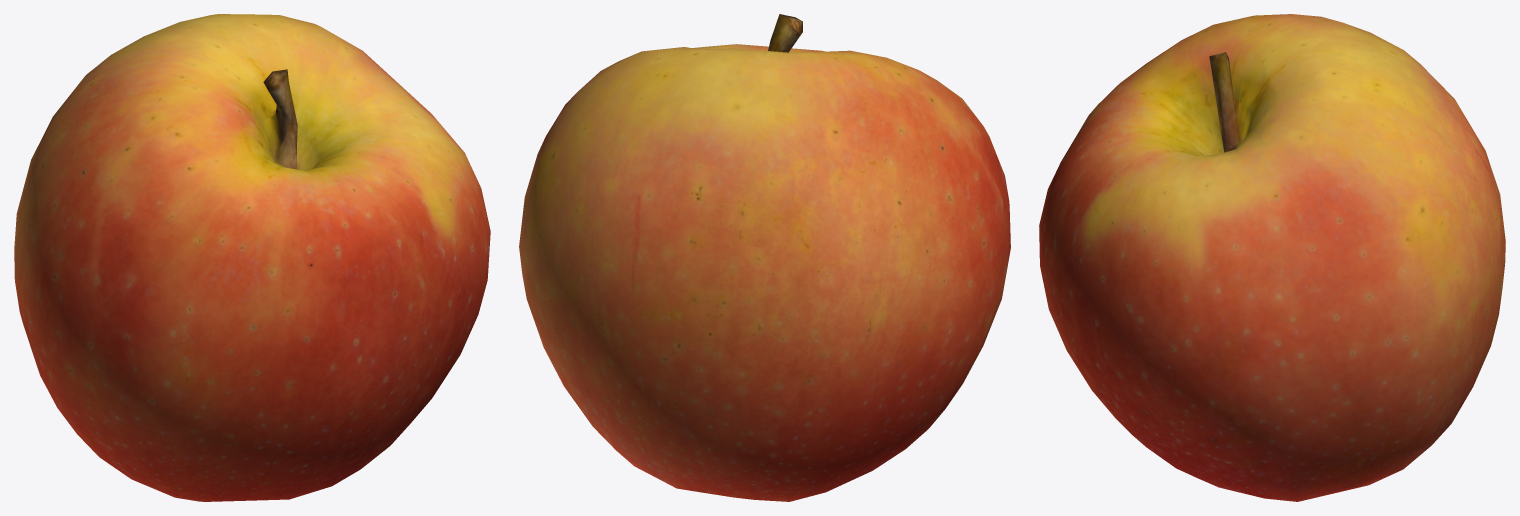
Rendered from 3DApple002_LQ-1K-PNG.obj.
The picture shows the model from 3 angles, left to right: view 1: azimuth 30°, elevation 25°; view 2: azimuth 150°, elevation 25°; view 3: azimuth 270°, elevation 25°; orthographic projection. The views are drawn at different scales.
Visible parts, largest first — view 1: 3DApple002_LQ-1K-PNG; view 2: 3DApple002_LQ-1K-PNG; view 3: 3DApple002_LQ-1K-PNG.
Boxes of the visible parts, box(x1,y1,x2,y2) form: 3DApple002_LQ-1K-PNG: box(14, 14, 490, 501); 3DApple002_LQ-1K-PNG: box(519, 14, 1010, 501); 3DApple002_LQ-1K-PNG: box(1039, 14, 1505, 501).
Size of the model in its own units: 0.0698 by 0.0679 by 0.0695.
1 material, 1 textured.
